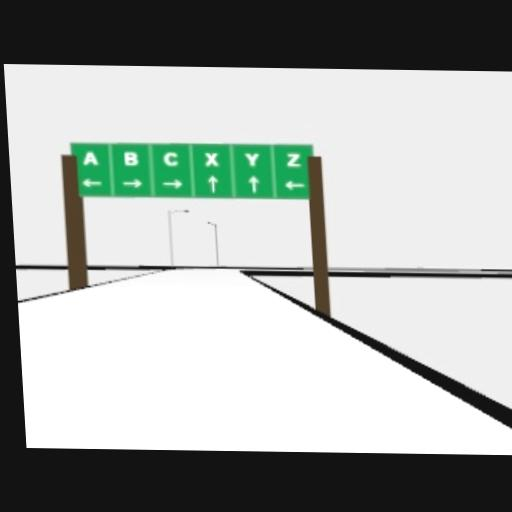A: (81, 150, 98, 164)
B: (123, 151, 138, 165)
C: (163, 151, 178, 165)
Left: (282, 180, 305, 190), (81, 177, 104, 187)
Right: (161, 178, 183, 189), (121, 178, 143, 188)
Straight: (247, 175, 259, 193), (207, 174, 219, 192)
X: (204, 152, 218, 166)
Y: (244, 152, 259, 165)
Z: (286, 153, 301, 166)
